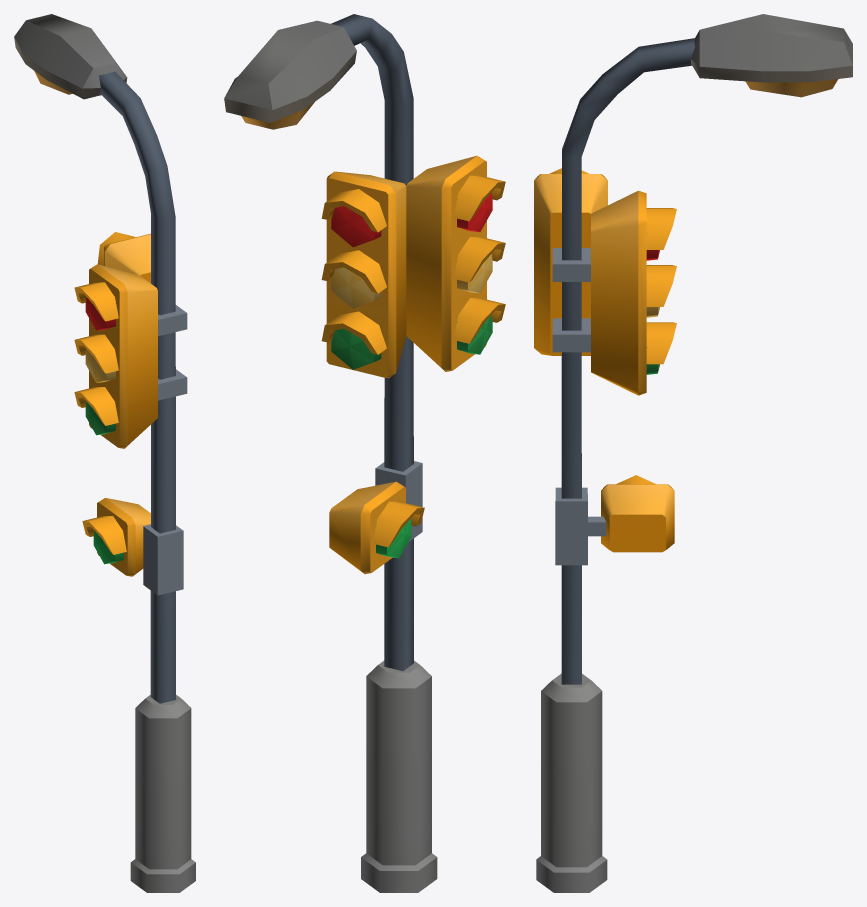
File: Lights_6_A.fbx
The picture shows the model from 3 angles, left to right: view 1: azimuth 30°, elevation 25°; view 2: azimuth 150°, elevation 25°; view 3: azimuth 270°, elevation 25°; orthographic projection. The views are drawn at different scales.
Parts seen in each view (by area): view 1: Lights_6_A; view 2: Lights_6_A; view 3: Lights_6_A.
Part boxes in pixels (x1,y1,x2,y2): Lights_6_A: (14, 14, 195, 892); Lights_6_A: (224, 14, 505, 892); Lights_6_A: (534, 14, 852, 892).
Size of the model in its own units: 64.76 by 423 by 143.
